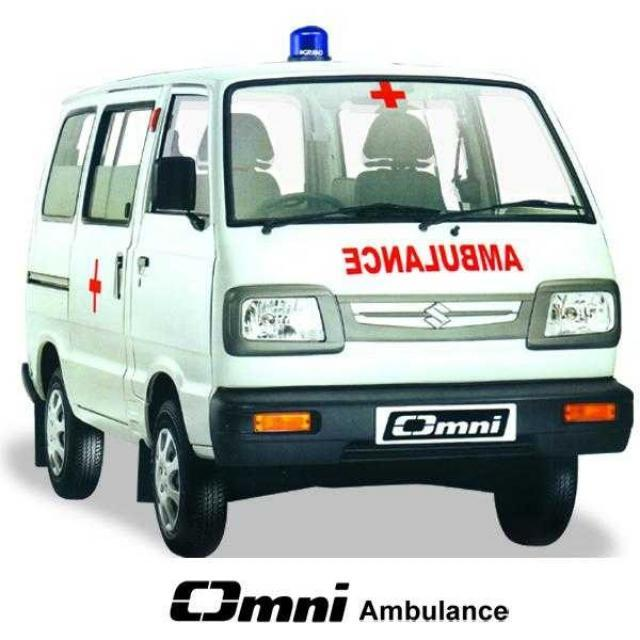emergency-vehicle: (21, 21, 632, 557)
